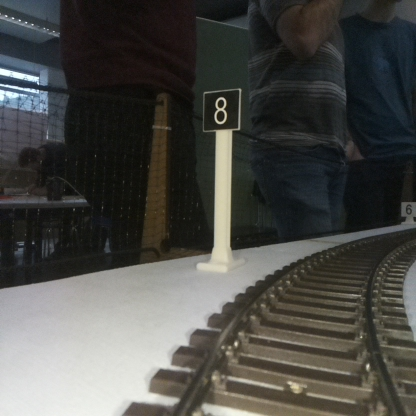black-info-8: (204, 90, 239, 269)
white-stop-6: (401, 201, 416, 223)
